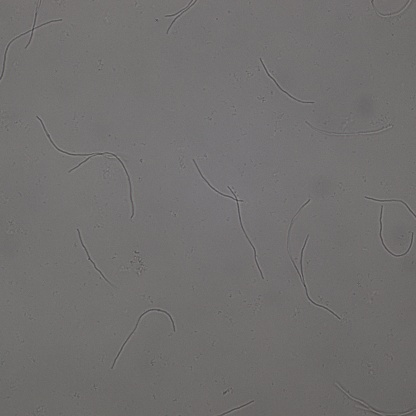Sensitive: (36, 117, 135, 218), (286, 198, 340, 319), (1, 1, 62, 82), (112, 307, 176, 368), (227, 187, 263, 279), (336, 381, 416, 415), (260, 58, 315, 104), (77, 229, 115, 289), (193, 159, 243, 203), (378, 206, 415, 261), (305, 120, 393, 140), (164, 1, 199, 36), (363, 194, 416, 216)
